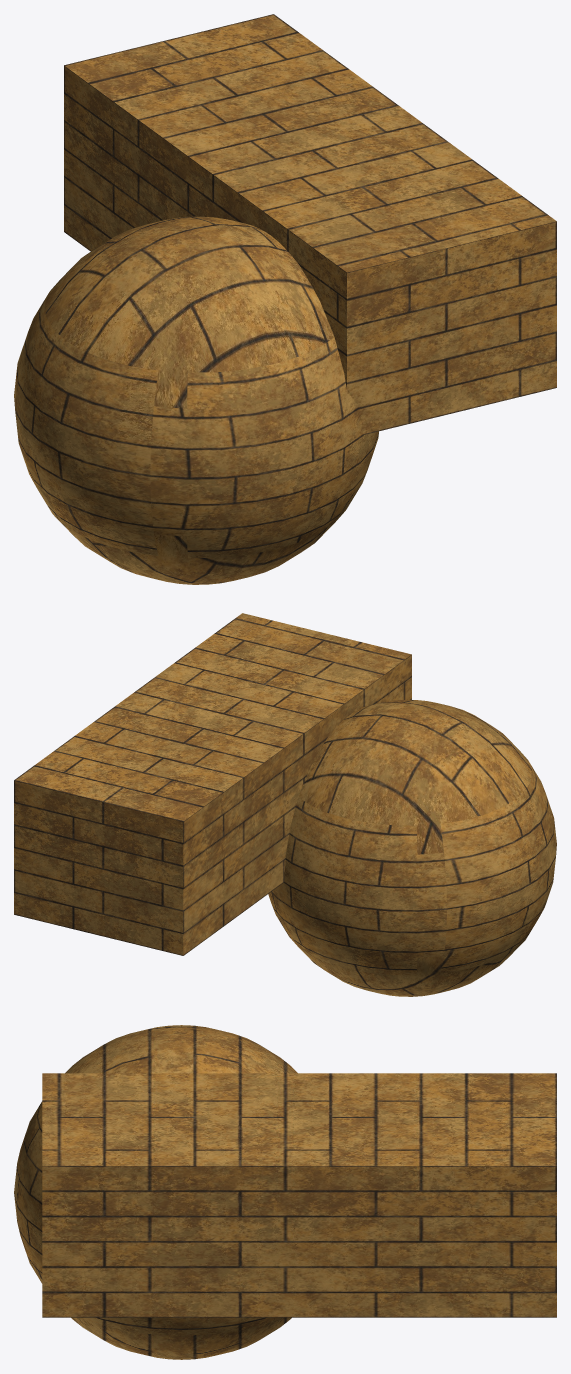
3 renders of one model, top to bottom at view 1: azimuth 30°, elevation 25°; view 2: azimuth 150°, elevation 25°; view 3: azimuth 270°, elevation 25°, orthographic. The views are drawn at different scales.
Parts seen in each view (by area): view 1: Box001; view 2: Box001; view 3: Box001.
Boxes of the visible parts, left/top/right/bottom form: Box001: left=14, top=14, right=556, bottom=584; Box001: left=14, top=613, right=556, bottom=996; Box001: left=14, top=1025, right=556, bottom=1359.
Bounding box in the file's own units: 1.36 × 0.9819 × 1.59.
Materials: 1 (1 with a texture image).
